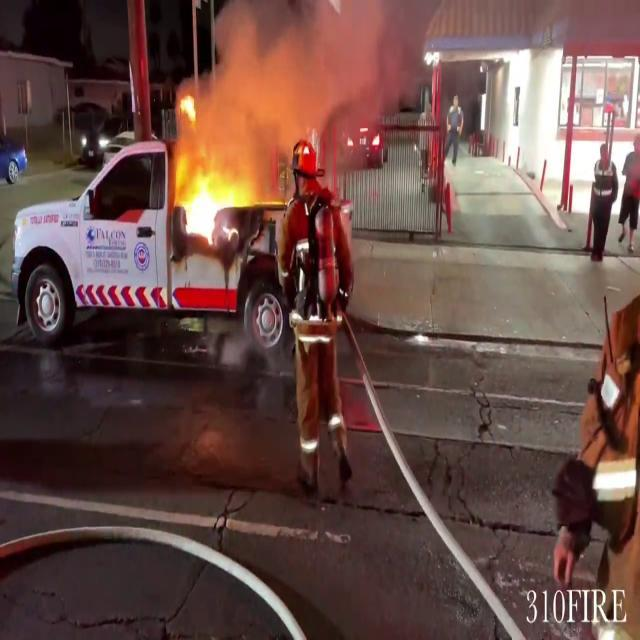Fire: (172, 133, 258, 246)
Smoke: (186, 0, 397, 144)
